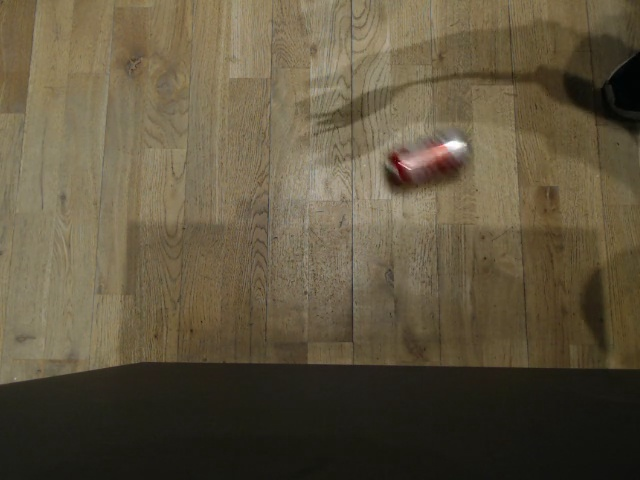cola: (385, 126, 472, 191)
